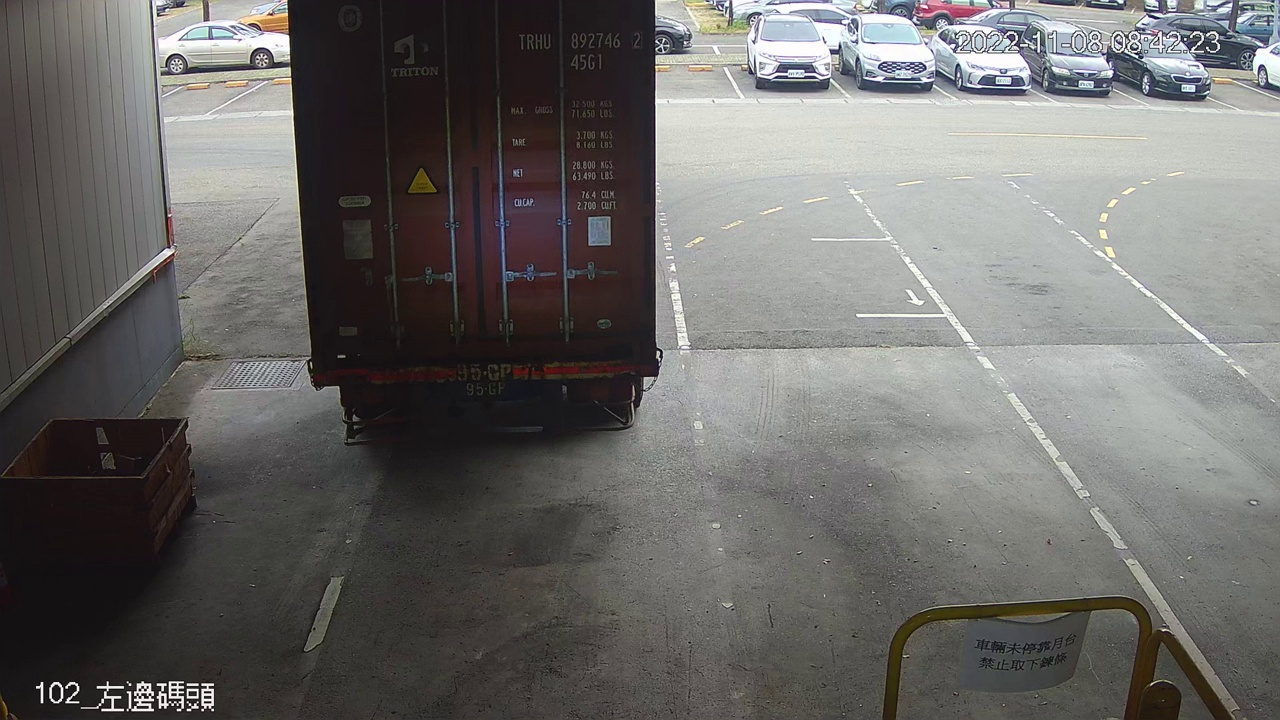container: (512, 25, 651, 77)
